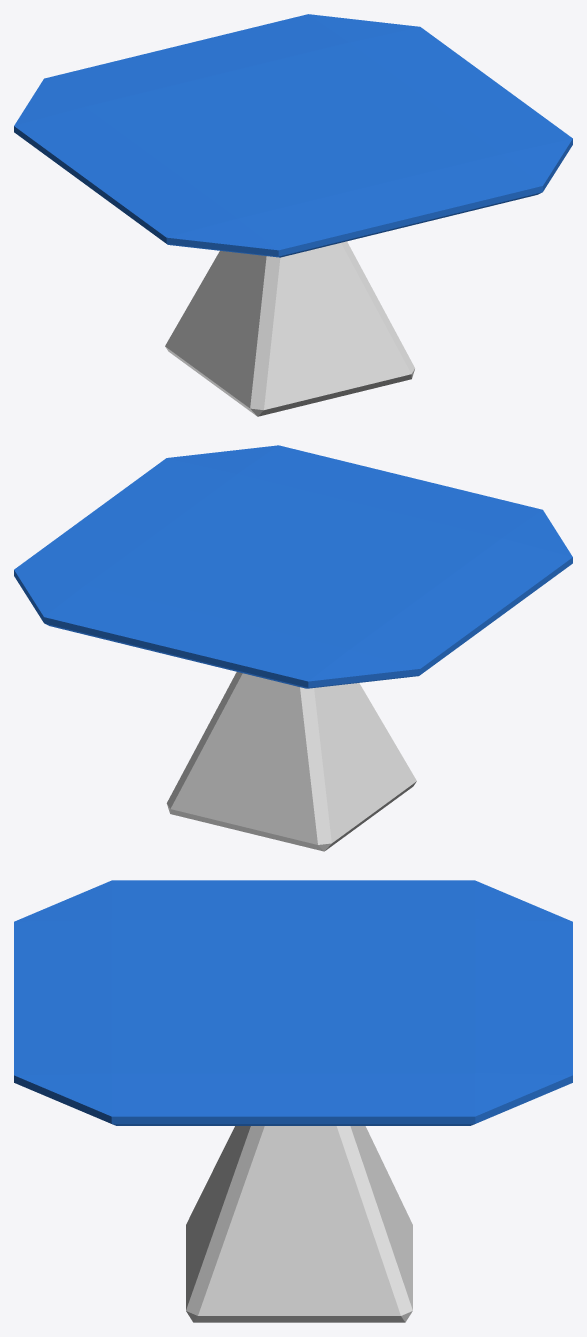
The model's file is Table.fbx.
The picture shows the model from 3 angles, top to bottom: view 1: azimuth 30°, elevation 25°; view 2: azimuth 150°, elevation 25°; view 3: azimuth 270°, elevation 25°; orthographic projection. The views are drawn at different scales.
Parts seen in each view (by area): view 1: Cube, Куб.004; view 2: Cube, Куб.004; view 3: Cube, Куб.004.
Boxes of the visible parts, x1,y1,x2,y2 form: Cube: (14,14,572,257); Куб.004: (165,241,415,416); Cube: (14,445,572,688); Куб.004: (166,672,416,851); Cube: (14,880,572,1125); Куб.004: (186,1126,412,1322).
Bounding box in the file's own units: 627 × 348 × 627.
